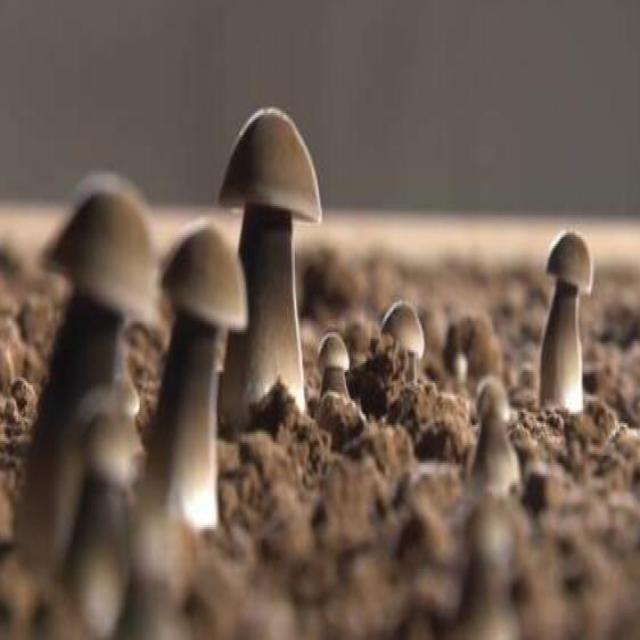Collybia albuminosa: (26, 177, 159, 590), (219, 109, 323, 405), (161, 226, 245, 550), (543, 232, 593, 421), (317, 330, 348, 396)
